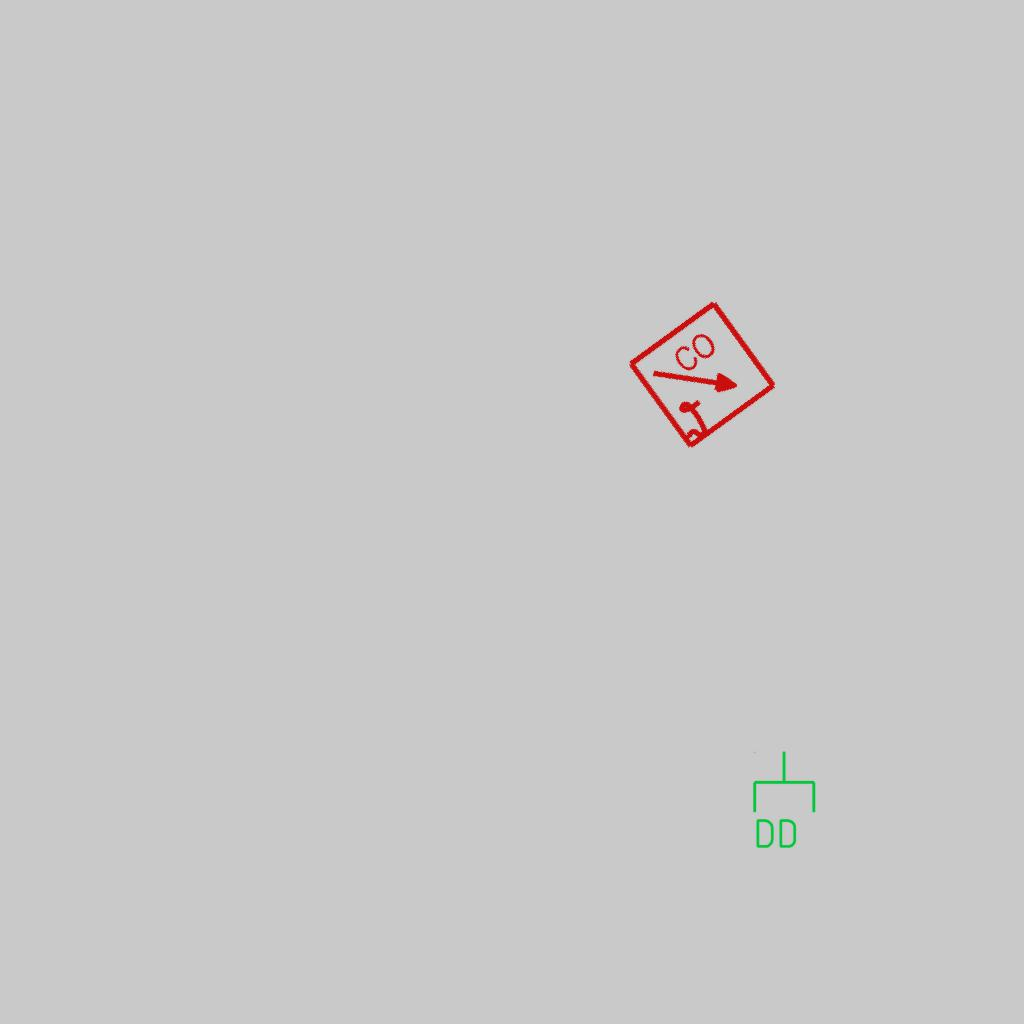Datenanschluss_zweifach: (749, 749, 818, 852)
ROA_Rauchmelder_optisch_mit_Signalgeber_(Sockelsirene): (624, 296, 783, 455)
